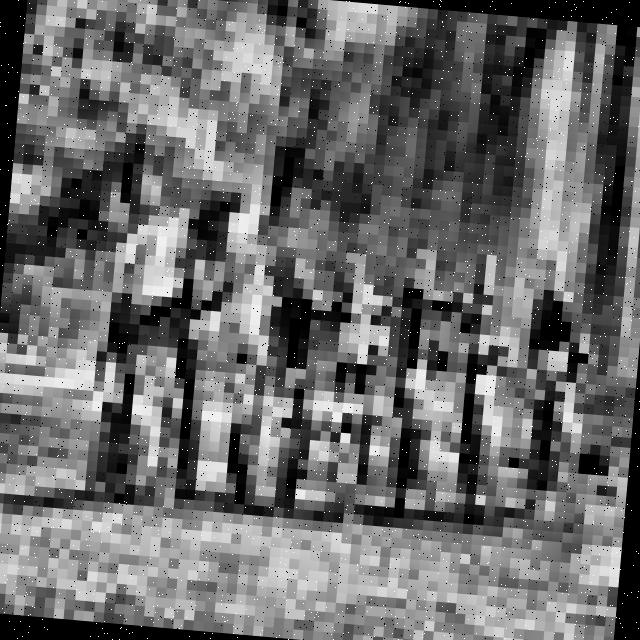mopeds: (99, 306, 204, 513), (517, 327, 595, 532), (439, 320, 508, 530), (240, 326, 308, 520), (376, 328, 440, 510), (313, 337, 380, 508)
